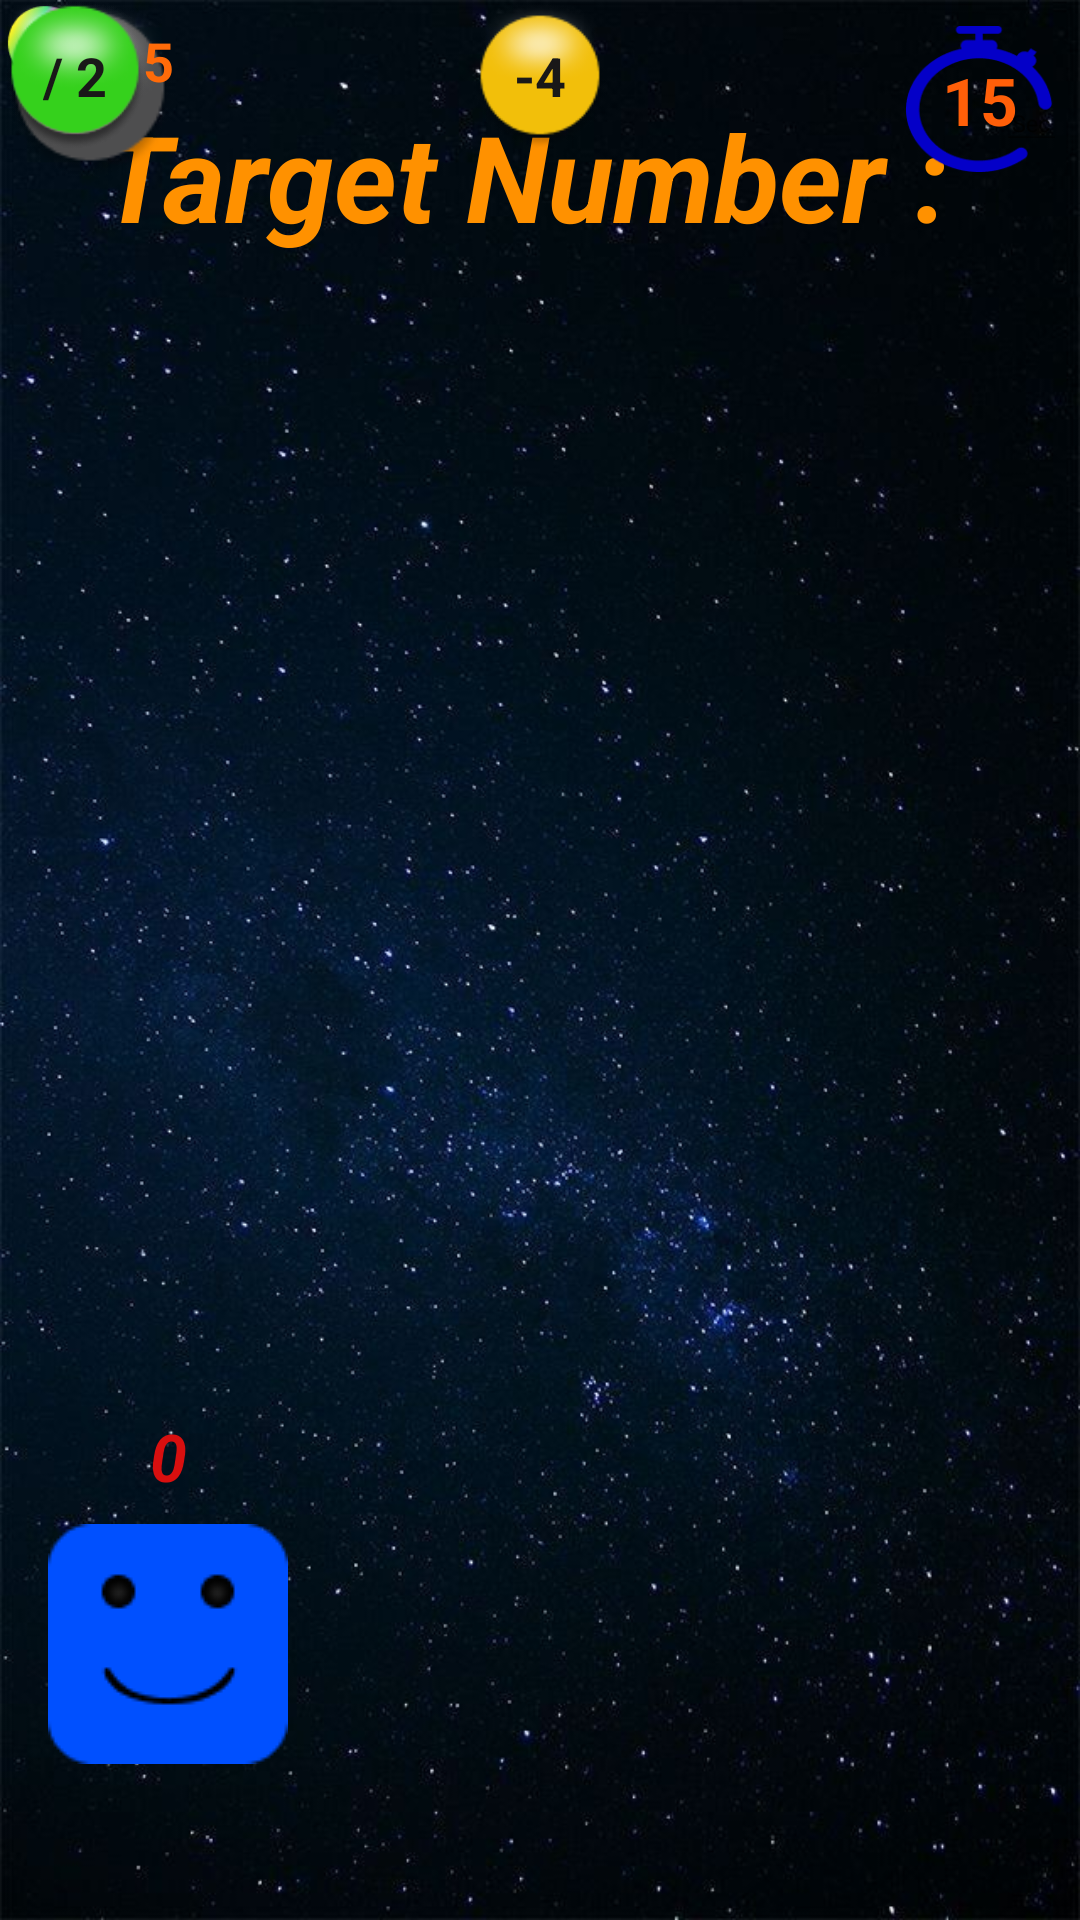

Icon click points for this 1080px x 1920px phone screenshot, format [x,y]:
timer: [979,100]
